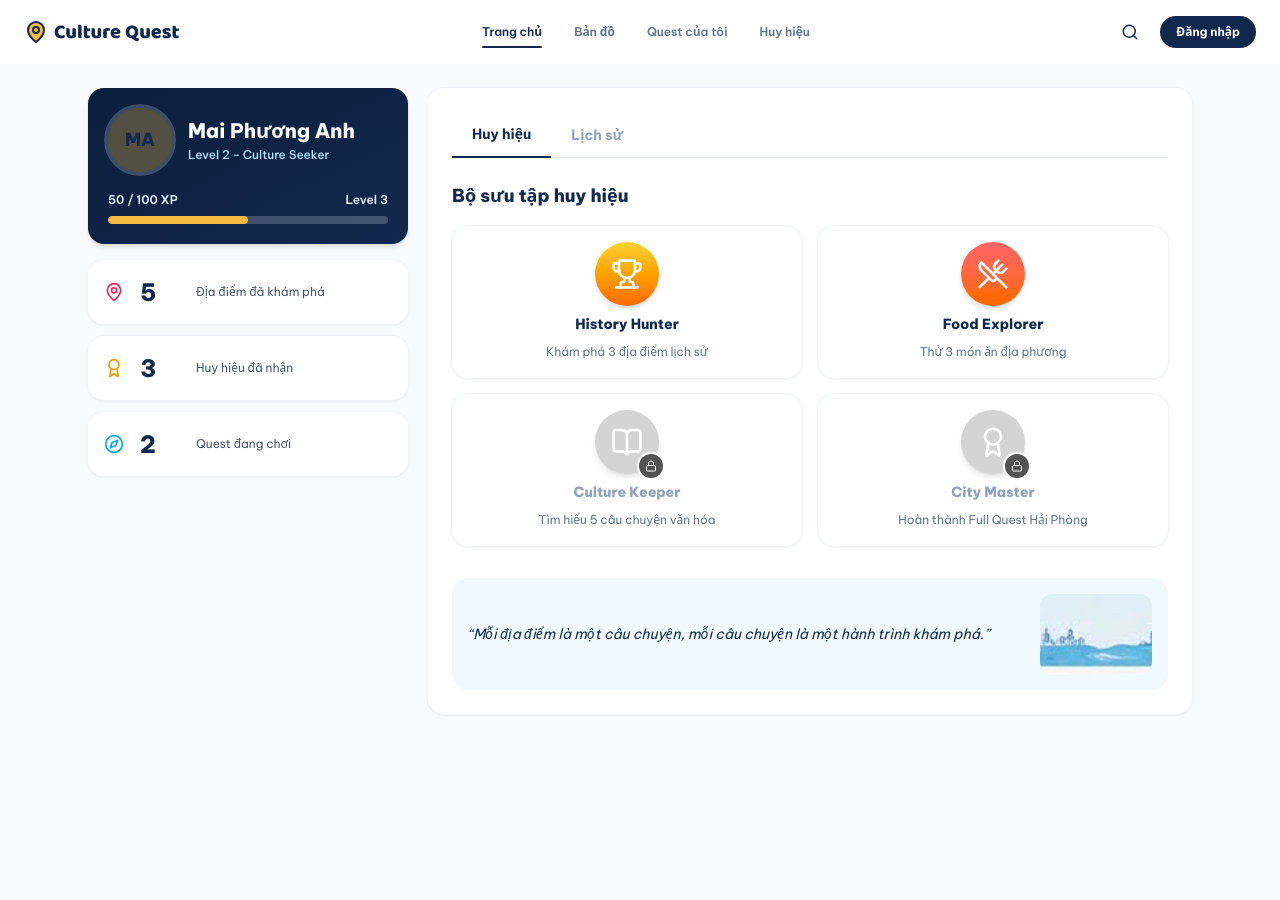
Test: ProfilePage › shows badge collection and switches to history
Expected: the heading "Bộ sưu tập huy hiệu" is shown, [452, 184, 628, 207]
Expected: the heading "History Hunter" is shown, [575, 314, 679, 334]
What coordinates should you click on to do the following:
click the tab "Lịch sử"
I would click on:
 (597, 135)
Its box is [551, 112, 643, 158].
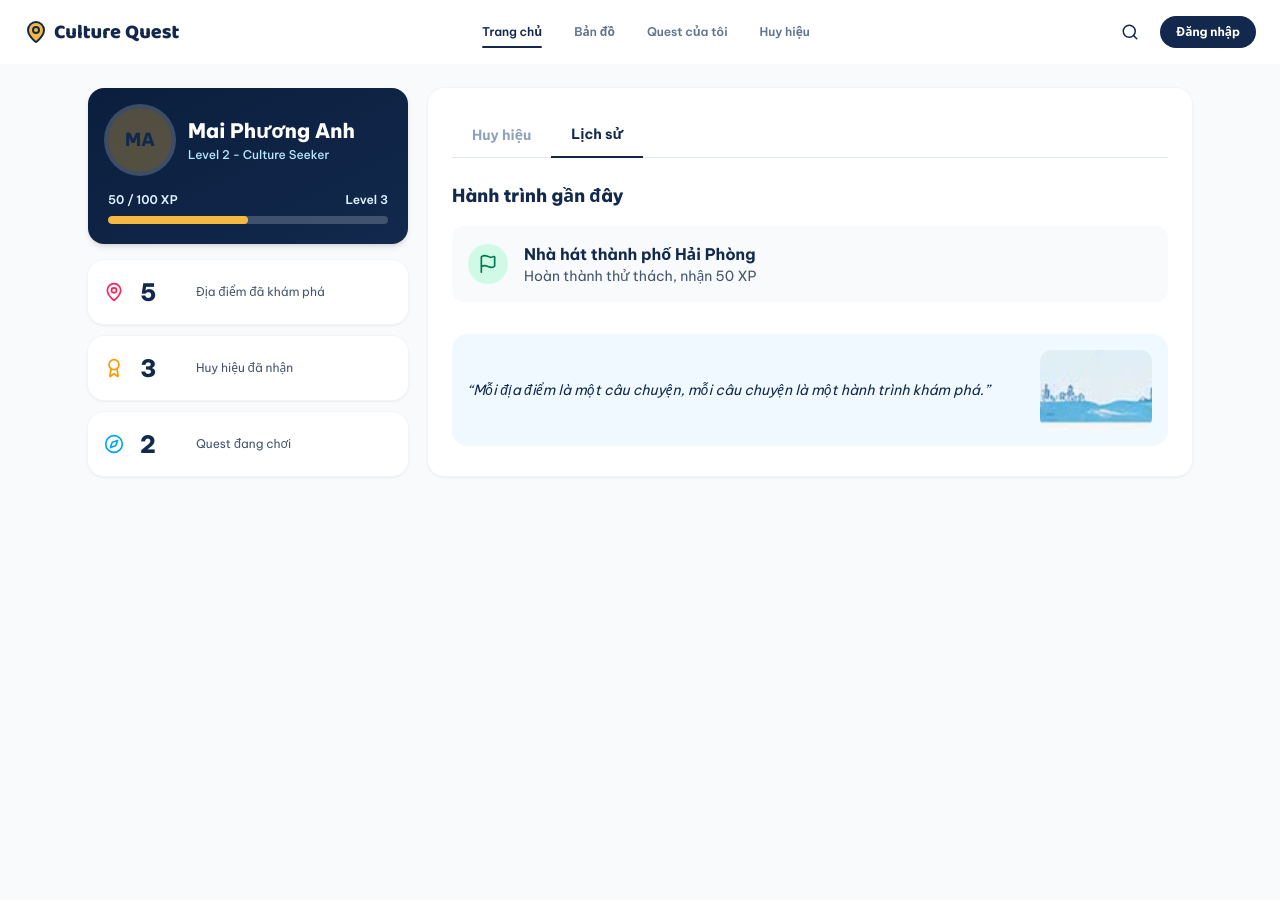
Result: the heading "Hành trình gần đây" is shown at [452, 184, 624, 207]
